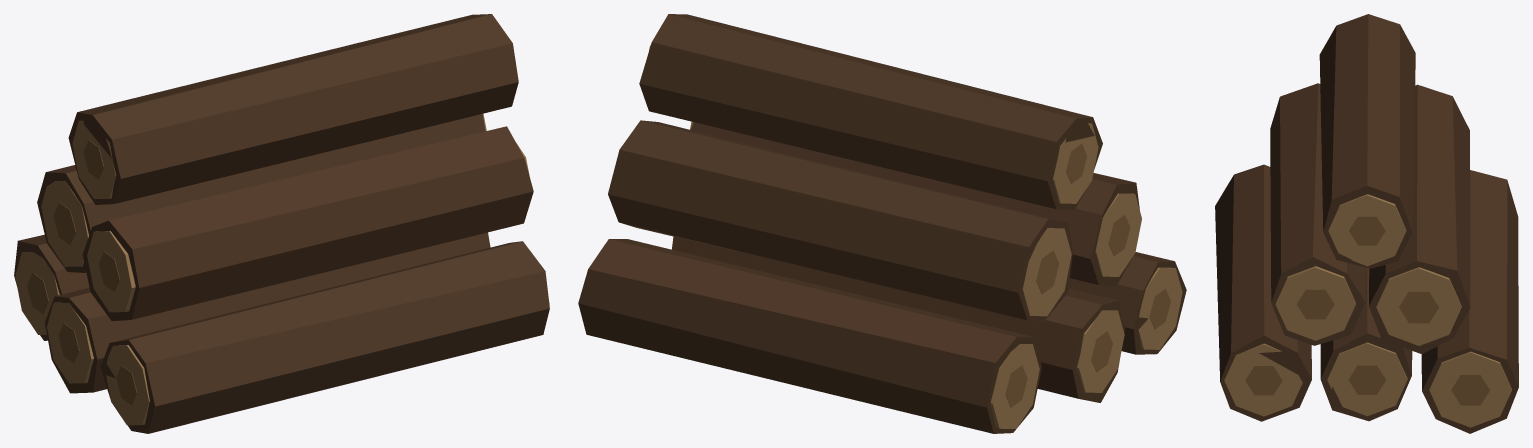
File: log_pile.glb
3 views of the same model, side by side, from view 1: azimuth 30°, elevation 25°; view 2: azimuth 150°, elevation 25°; view 3: azimuth 270°, elevation 25° (orthographic). The views are drawn at different scales.
Visible parts, largest first — view 1: log_pile; view 2: log_pile; view 3: log_pile.
Boxes of the visible parts, bbox=[...] form: log_pile: bbox=[14, 14, 549, 433]; log_pile: bbox=[578, 14, 1186, 433]; log_pile: bbox=[1215, 14, 1518, 433].
Size of the model in its own units: 2.16 by 1.33 by 1.47.
